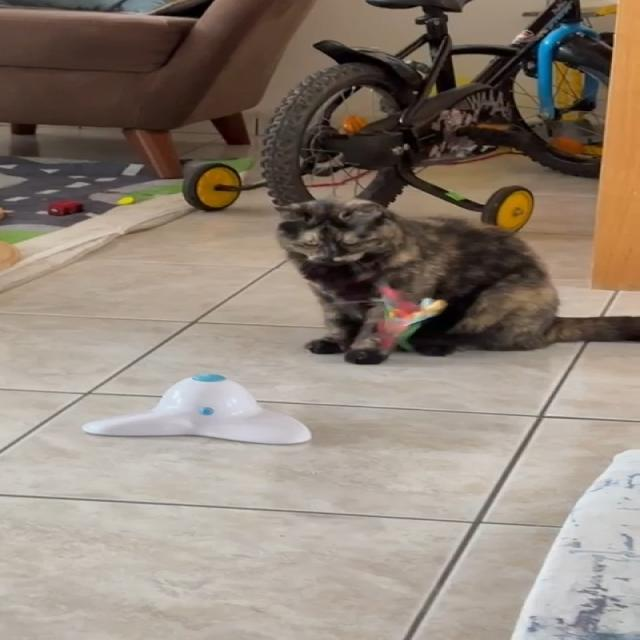authorized: (273, 196, 639, 364)
